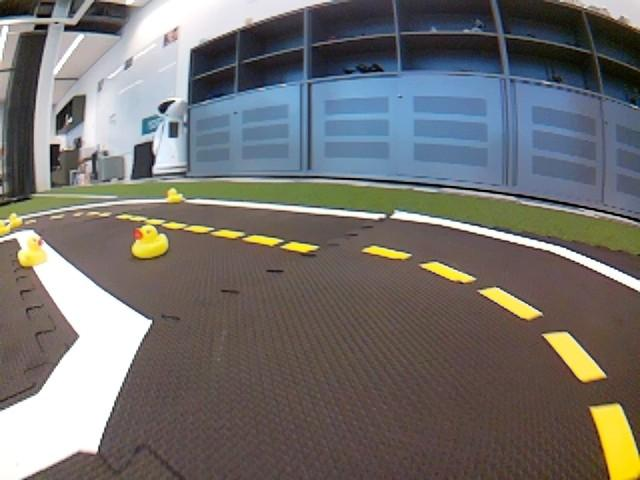Duckies: (131, 225, 169, 260), (17, 235, 46, 267), (166, 187, 183, 203), (9, 213, 23, 229), (0, 218, 10, 236)
